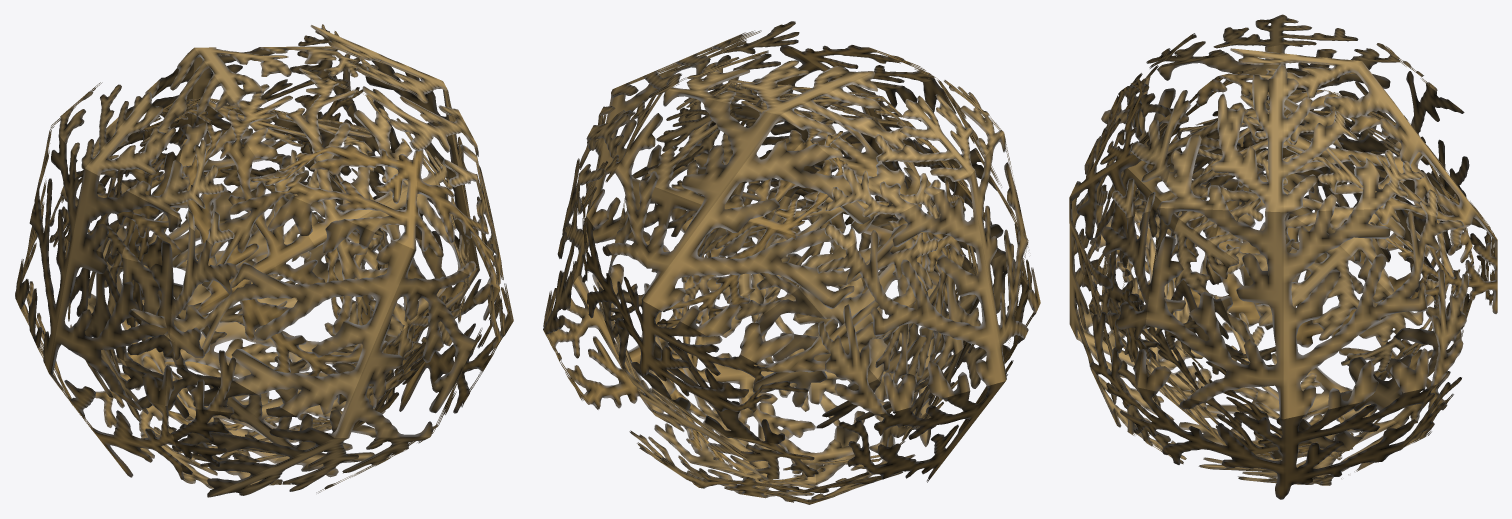
File: tumbleweed1.fbx
3 views of the same model, side by side, from view 1: azimuth 30°, elevation 25°; view 2: azimuth 150°, elevation 25°; view 3: azimuth 270°, elevation 25° (orthographic). The views are drawn at different scales.
Visible parts, largest first — view 1: tumbleweed1; view 2: tumbleweed1; view 3: tumbleweed1.
Boxes of the visible parts, left/top/right/bottom form: tumbleweed1: left=15, top=24, right=513, bottom=497; tumbleweed1: left=543, top=21, right=1040, bottom=504; tumbleweed1: left=1069, top=14, right=1497, bottom=499.
Bounding box in the file's own units: 88.98 × 87.51 × 79.27.
1 material, 1 textured.
